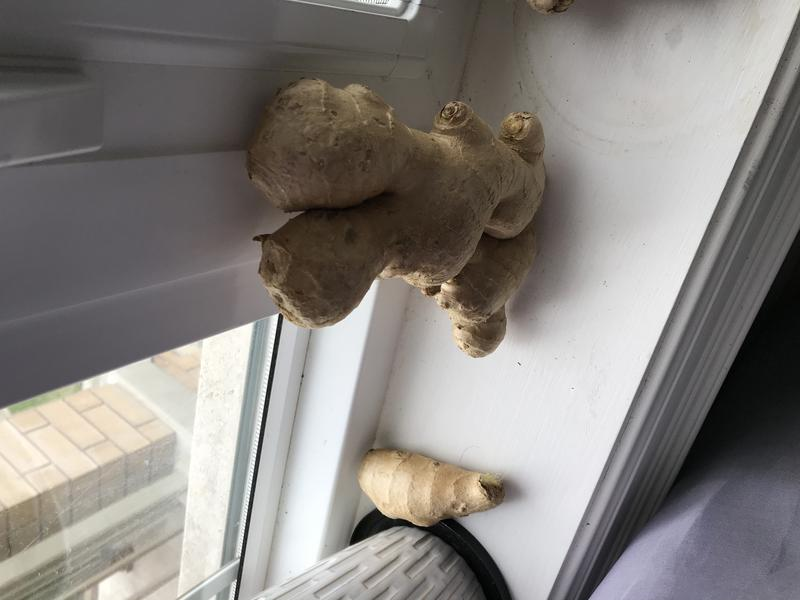ginger: (224, 67, 567, 380), (351, 437, 511, 544)
